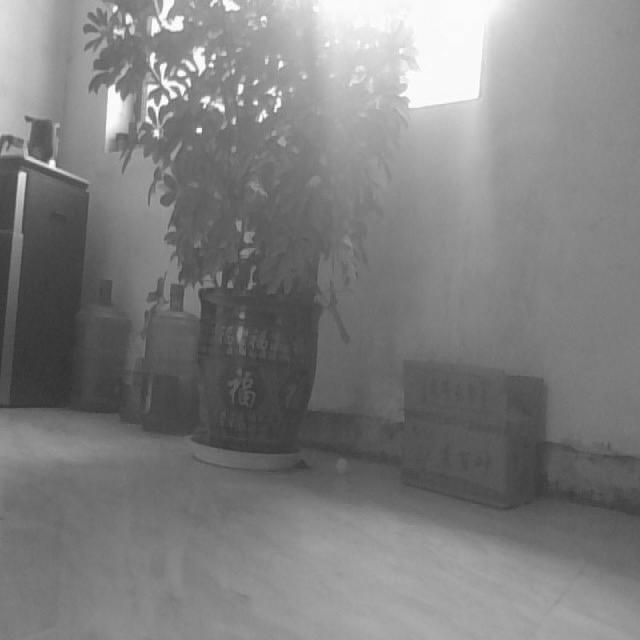ping-pong-ball: (336, 458, 348, 475)
